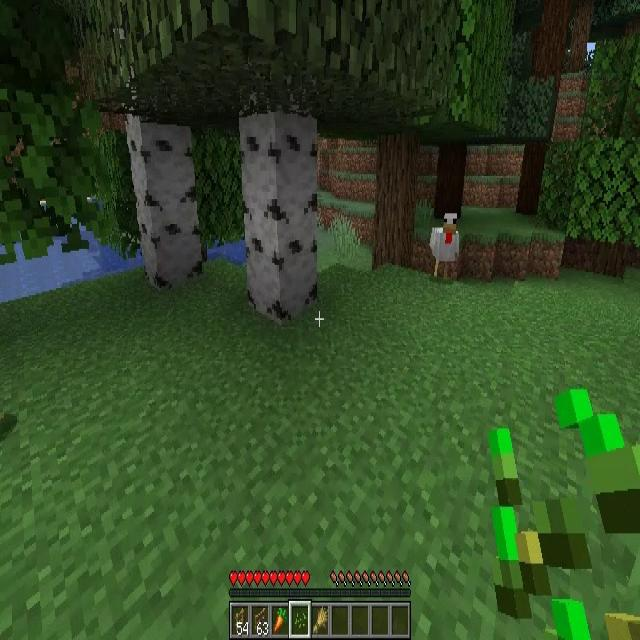duck: (430, 215, 458, 283)
